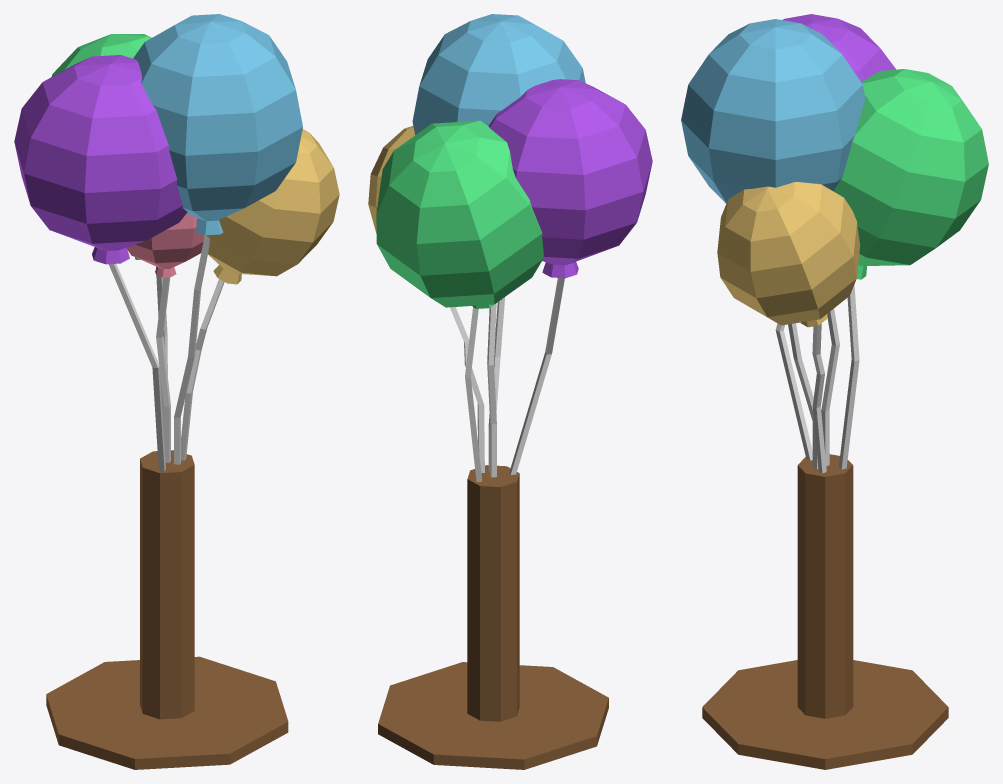
File: balloons.fbx
3 views of the same model, side by side, from view 1: azimuth 30°, elevation 25°; view 2: azimuth 150°, elevation 25°; view 3: azimuth 270°, elevation 25° (orthographic). The views are drawn at different scales.
Parts seen in each view (by area): view 1: Circle, Sphere.001, Sphere.002, Sphere.004, Sphere.003, Cylinder.001, Cylinder.003, Sphere, Cylinder, Cylinder.004; view 2: Circle, Sphere, Sphere.001, Sphere.002, Cylinder.001, Cylinder, Cylinder.002, Sphere.004, Cylinder.004, Cylinder.003; view 3: Circle, Sphere.002, Sphere, Sphere.004, Sphere.001, Cylinder.002, Cylinder.004, Cylinder, Cylinder.001, Cylinder.003.
Part boxes in pixels (box(x1,y1,x2,y2)): Circle: box(46, 450, 288, 769); Sphere.001: box(14, 55, 187, 264); Sphere.002: box(133, 14, 302, 235); Sphere.004: box(203, 129, 339, 284); Sphere.003: box(126, 213, 203, 277); Cylinder.001: box(109, 264, 165, 471); Cylinder.003: box(174, 235, 209, 464); Sphere: box(51, 34, 151, 259); Cylinder: box(156, 277, 170, 462); Cylinder.004: box(181, 279, 224, 460); Circle: box(378, 465, 608, 769); Sphere: box(376, 120, 543, 308); Sphere.001: box(488, 79, 652, 278); Sphere.002: box(412, 14, 585, 134); Cylinder.001: box(509, 278, 564, 474); Cylinder: box(487, 303, 496, 477); Cylinder.002: box(465, 307, 482, 481); Sphere.004: box(368, 126, 414, 233); Cylinder.004: box(450, 307, 484, 472); Cylinder.003: box(488, 297, 504, 472); Circle: box(702, 454, 948, 769); Sphere.002: box(681, 19, 865, 203); Sphere: box(833, 69, 988, 279); Sphere.004: box(717, 182, 860, 327); Sphere.001: box(782, 14, 895, 81); Cylinder.002: box(838, 284, 859, 469); Cylinder.004: box(812, 323, 826, 473); Cylinder: box(821, 308, 839, 466); Cylinder.001: box(775, 323, 812, 460); Cylinder.003: box(788, 323, 818, 469).
Bounding box in the file's own units: 80.5 × 188 × 74.96.
